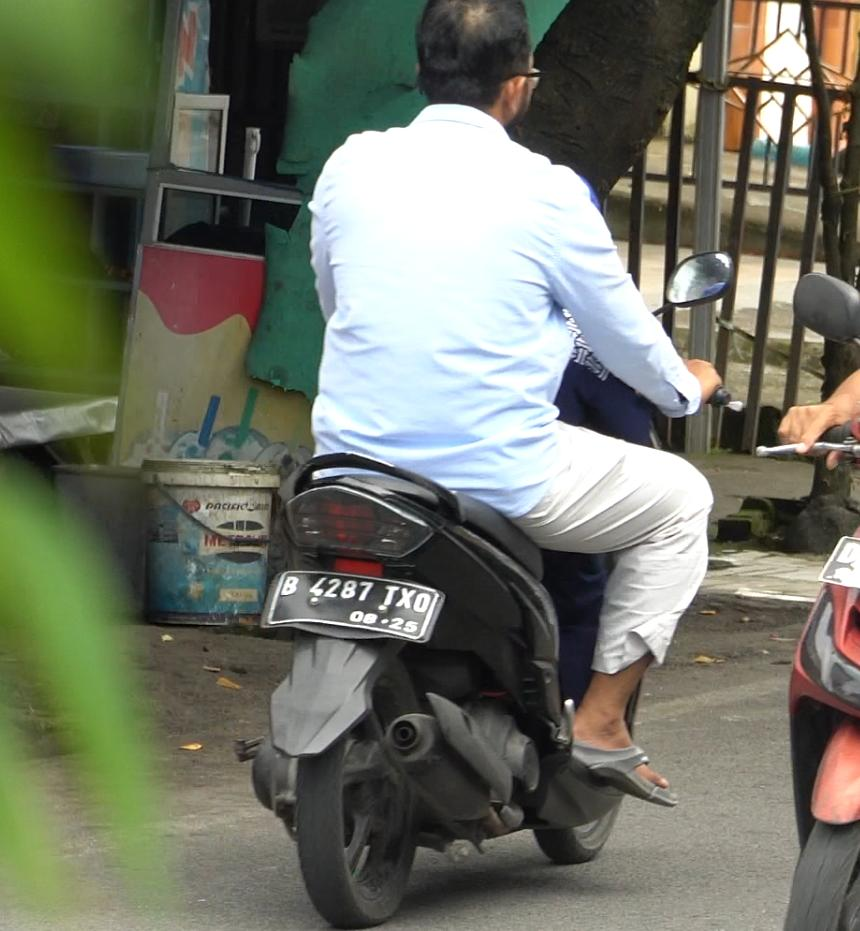number-plate: (264, 567, 444, 645)
